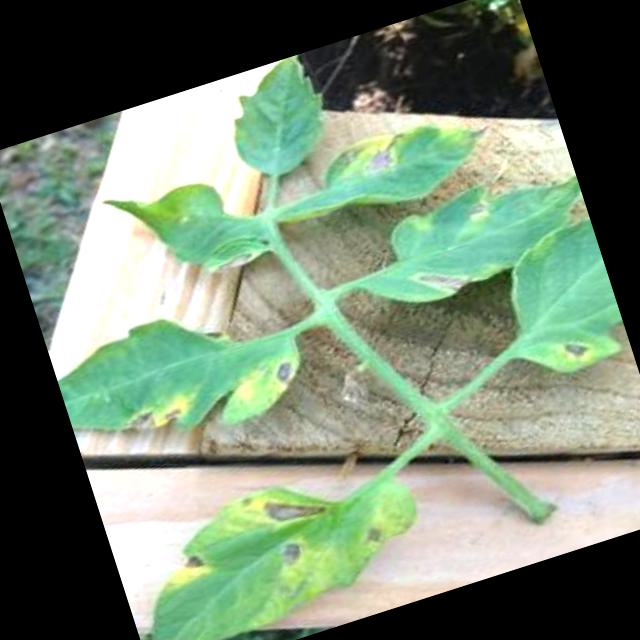Early_blight: (234, 473, 330, 540), (114, 386, 203, 442), (408, 254, 474, 310), (158, 546, 215, 592), (352, 132, 399, 178), (260, 349, 303, 392), (271, 535, 310, 570), (560, 333, 596, 365), (212, 248, 255, 273), (460, 194, 492, 221)
